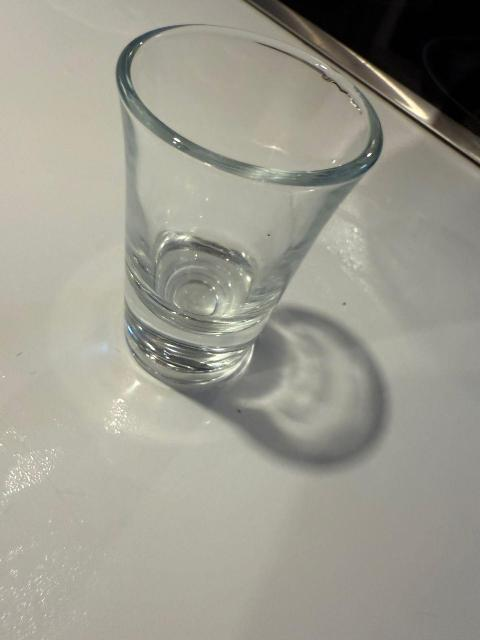Cam: (111, 25, 381, 388)
